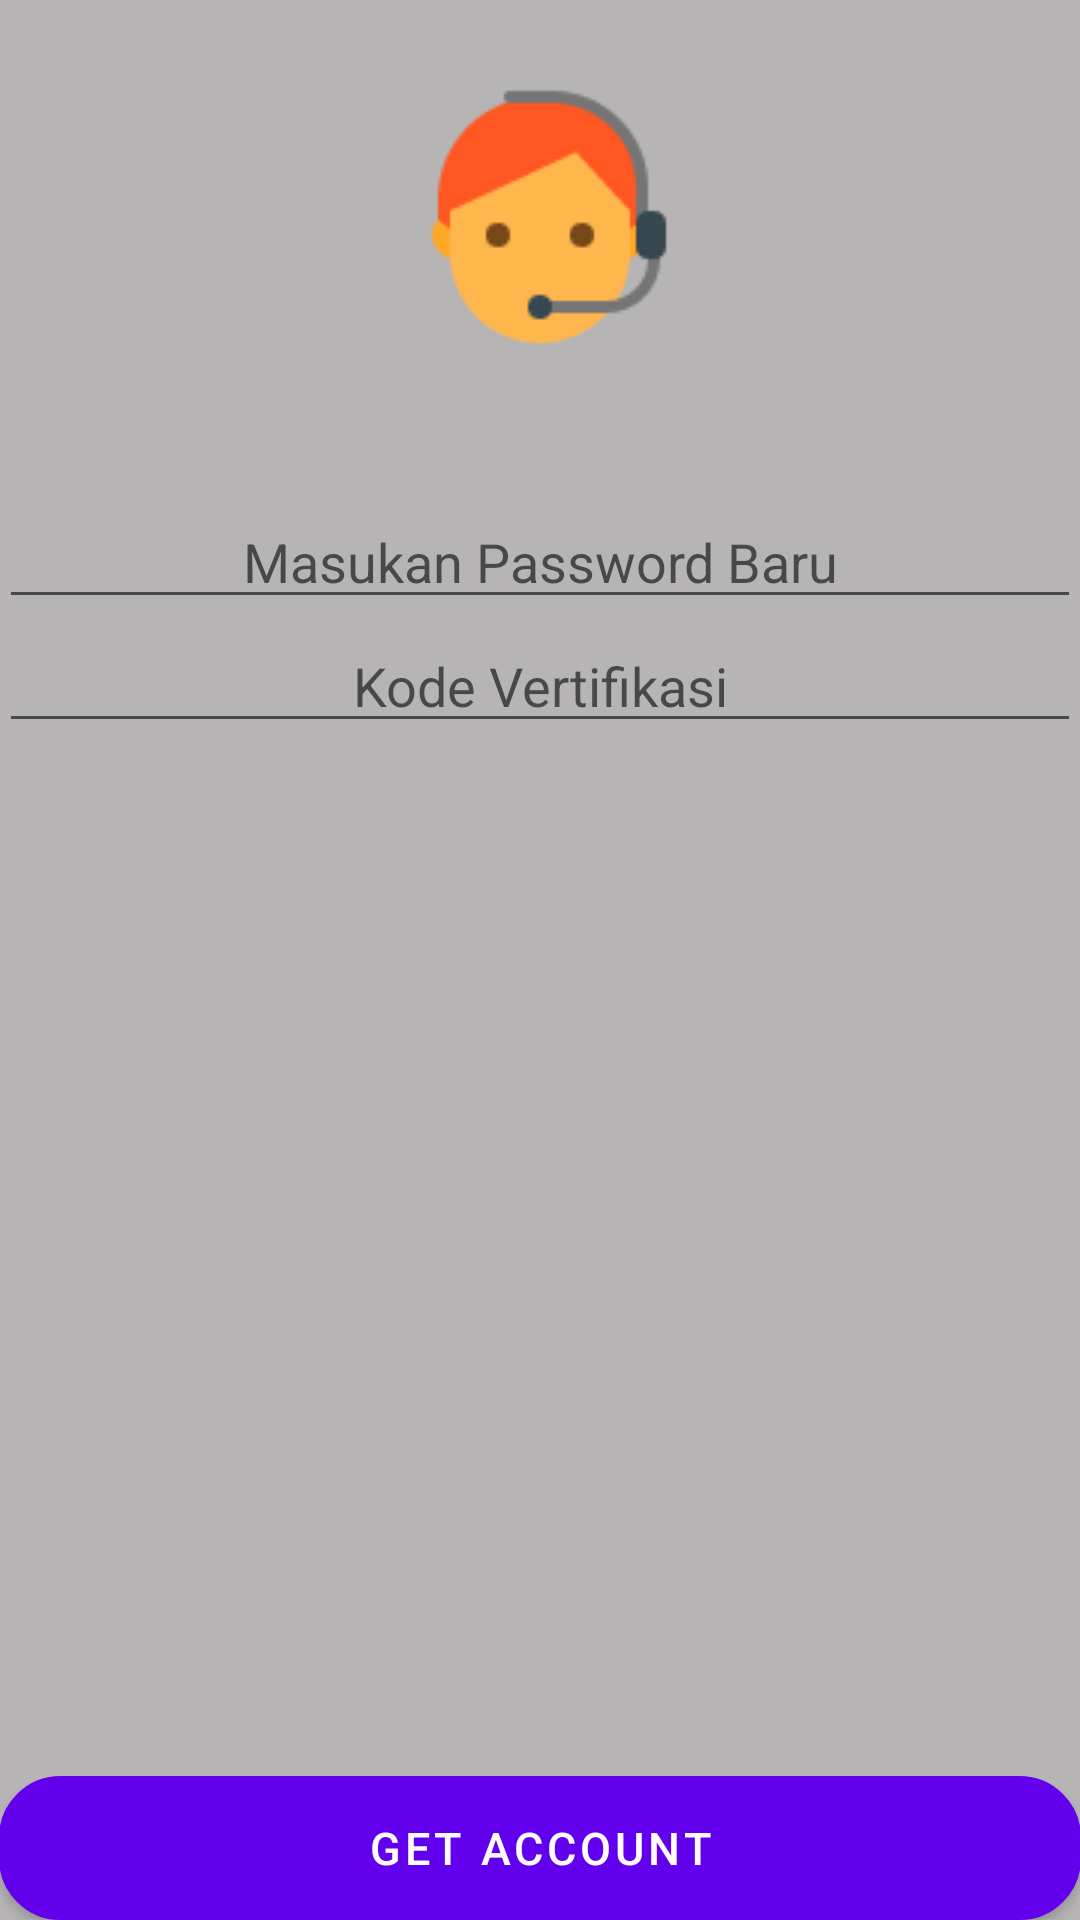

Where to tap for icons on this 1080 × 1920 app screen, as (x=x, y=y):
bantuan: (x=549, y=217)
